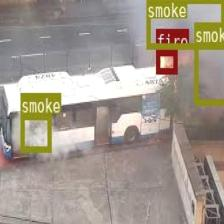fire: (155, 49, 176, 72)
smoke: (146, 0, 223, 48), (193, 42, 224, 104), (20, 113, 51, 151)
